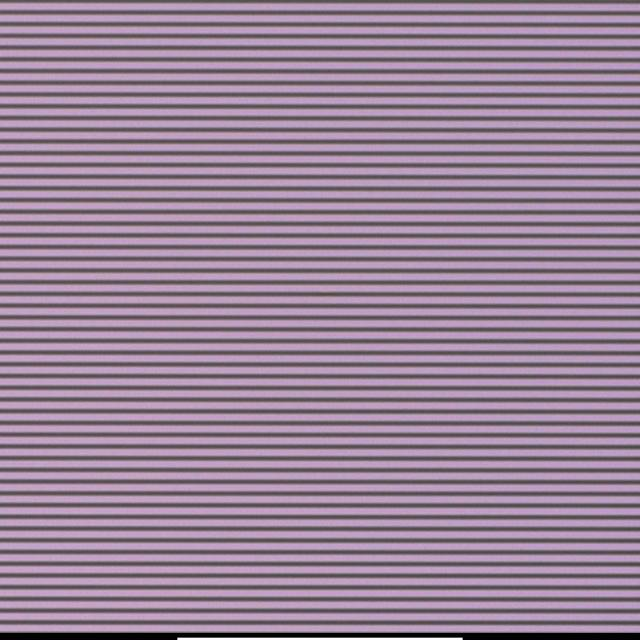03_intrusion: (302, 296, 308, 303)
